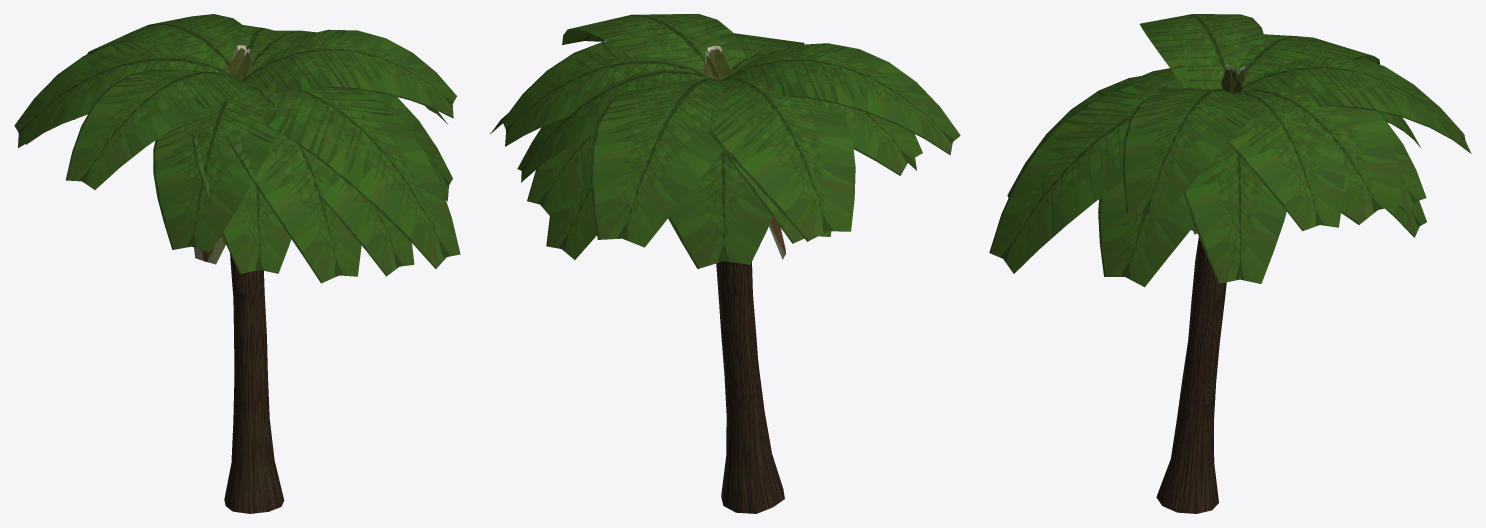
File: ENV_PC_TreeFern_A.fbx
The picture shows the model from 3 angles, left to right: view 1: azimuth 30°, elevation 25°; view 2: azimuth 150°, elevation 25°; view 3: azimuth 270°, elevation 25°; orthographic projection. The views are drawn at different scales.
Parts seen in each view (by area): view 1: ENV_PC_TreeFern_A_LOD0; view 2: ENV_PC_TreeFern_A_LOD0; view 3: ENV_PC_TreeFern_A_LOD0.
Boxes of the visible parts, box(x1,y1,x2,y2) form: ENV_PC_TreeFern_A_LOD0: box(14, 14, 460, 513); ENV_PC_TreeFern_A_LOD0: box(490, 14, 960, 513); ENV_PC_TreeFern_A_LOD0: box(989, 14, 1471, 513).
Size of what is drawn, in the model's own units: 5.64 by 5.93 by 5.82.
